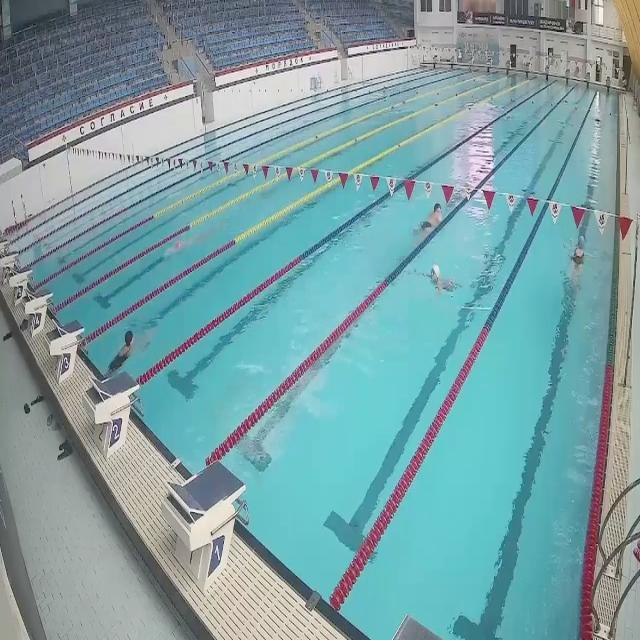Swimming: (105, 330, 151, 378), (416, 266, 463, 299), (569, 236, 597, 278), (418, 203, 445, 236)
